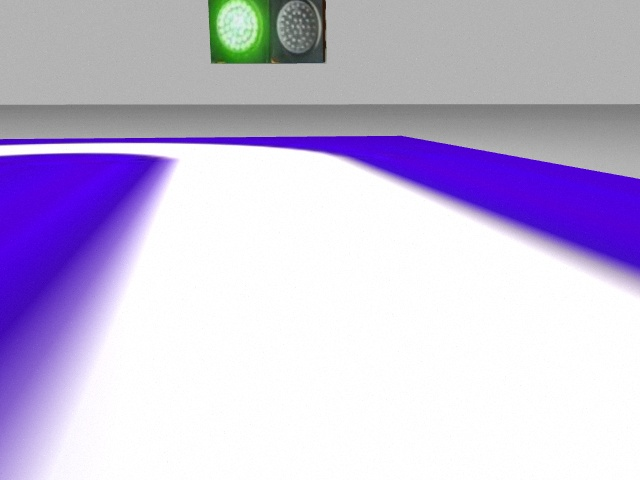green: (210, 2, 271, 64)
